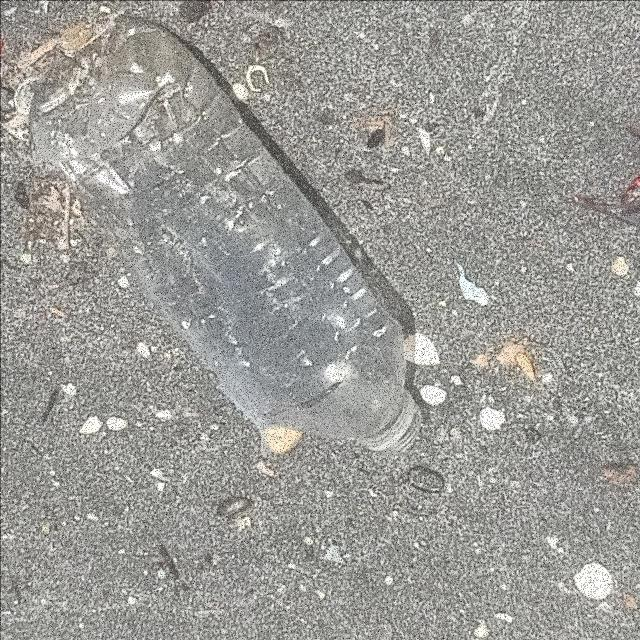plastic_waste: (59, 16, 424, 456)
